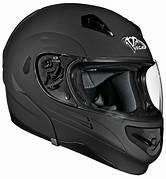Helmet: (3, 4, 162, 174)
